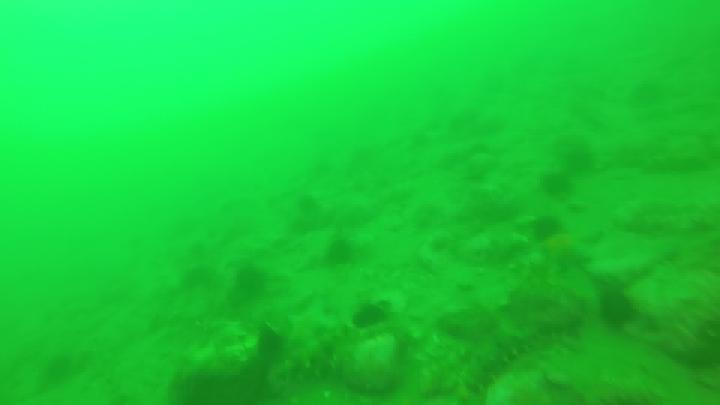echinus: (345, 307, 387, 330), (601, 293, 632, 323), (329, 236, 356, 263), (235, 270, 264, 294), (543, 176, 576, 196), (535, 213, 560, 238)
holothurian: (452, 319, 545, 405)
